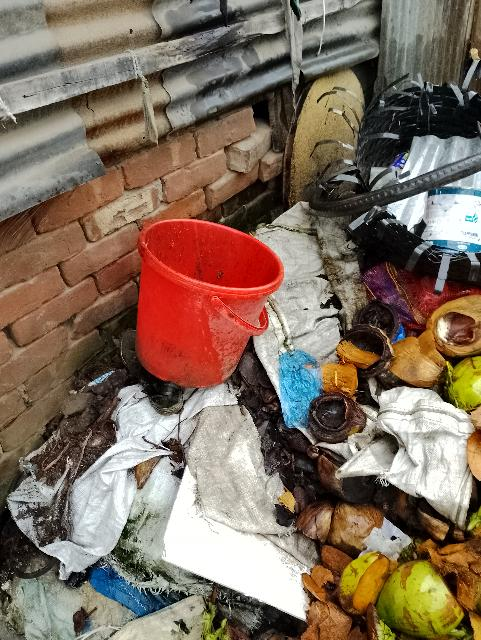hardplastic: (146, 218, 263, 395)
